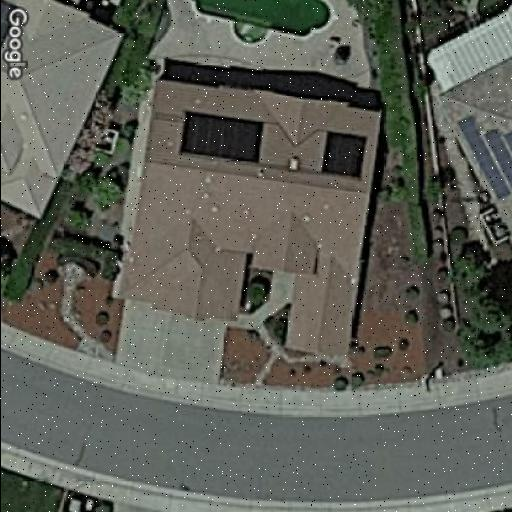solar-panel: (456, 107, 512, 199), (179, 108, 267, 166), (319, 129, 369, 181)
